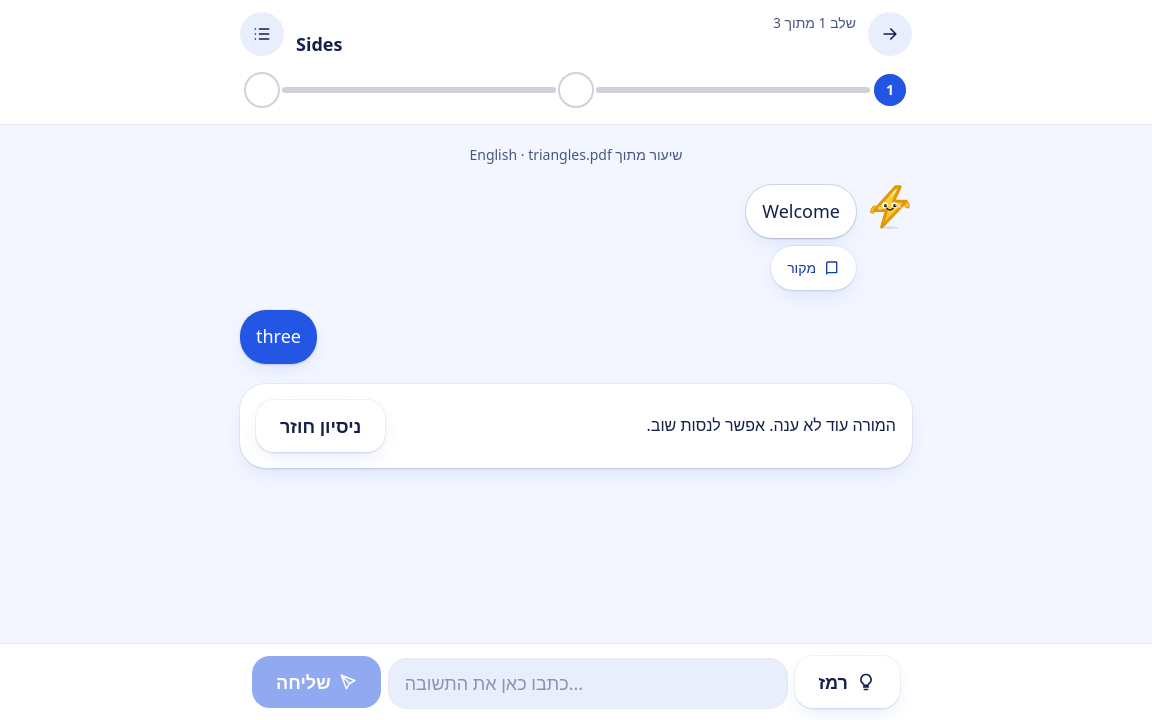
Scenario: leaving and coming back › a reload during a stream brings the lesson back without the half answer and offers a retry
Expected: the text "המורה עוד לא ענה. אפשר לנסות שוב." is shown, [647,412,896,439]
Click the button "ניסיון חוזר".
click(321, 426)  # box [256,400,385,452]
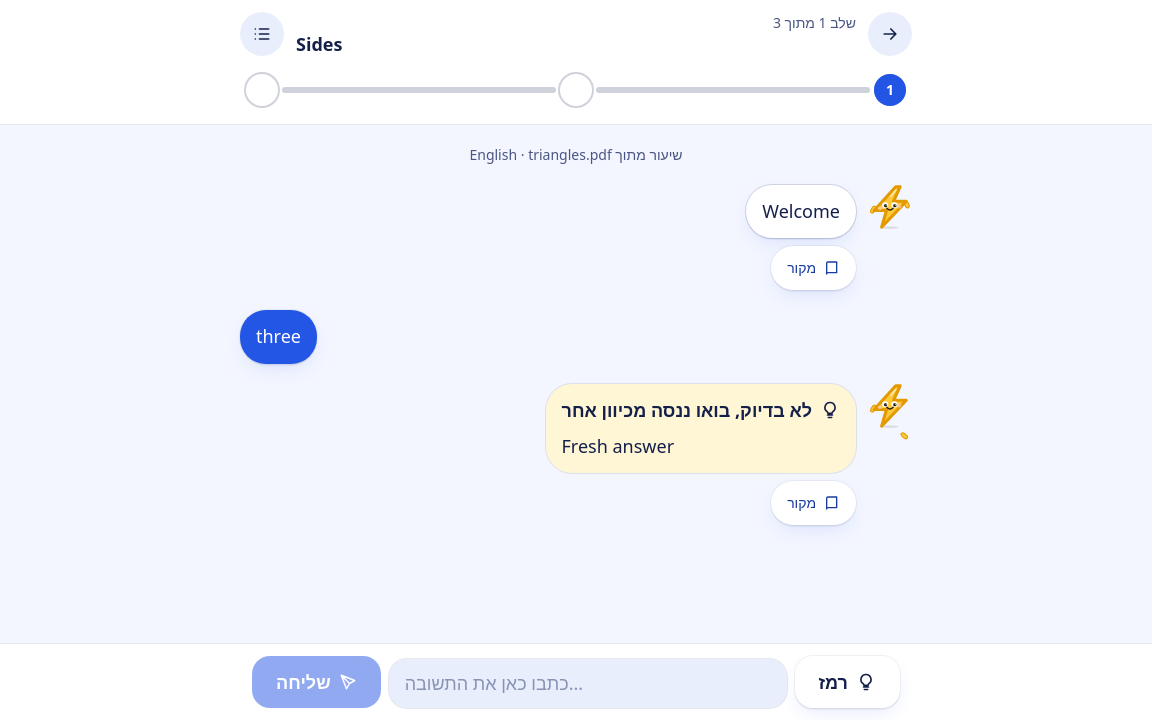
Expected: the text "Fresh answer" is shown, [562,434,674,458]
